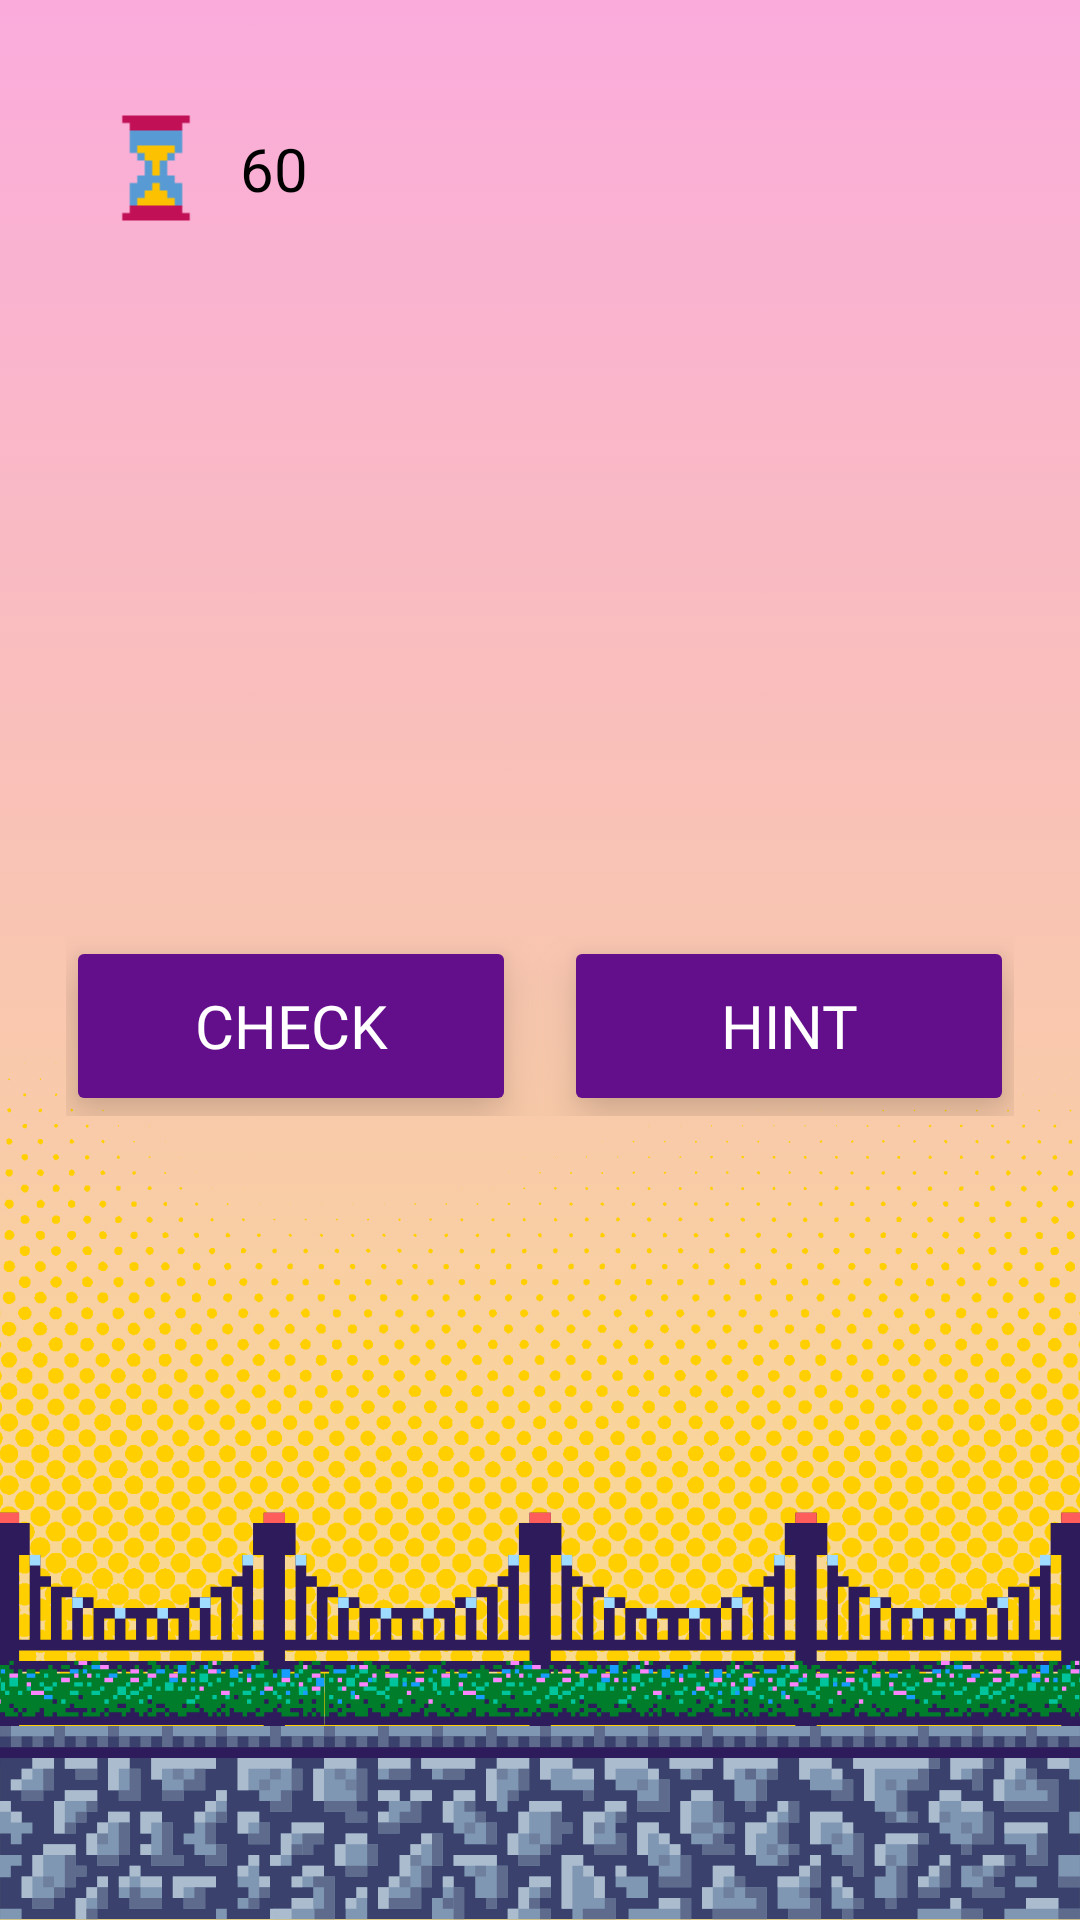

Icon bounding boxes for this 1080*1920 phone screenshot, format (x1, y1, x2, y2):
time: (122, 115, 190, 221)
